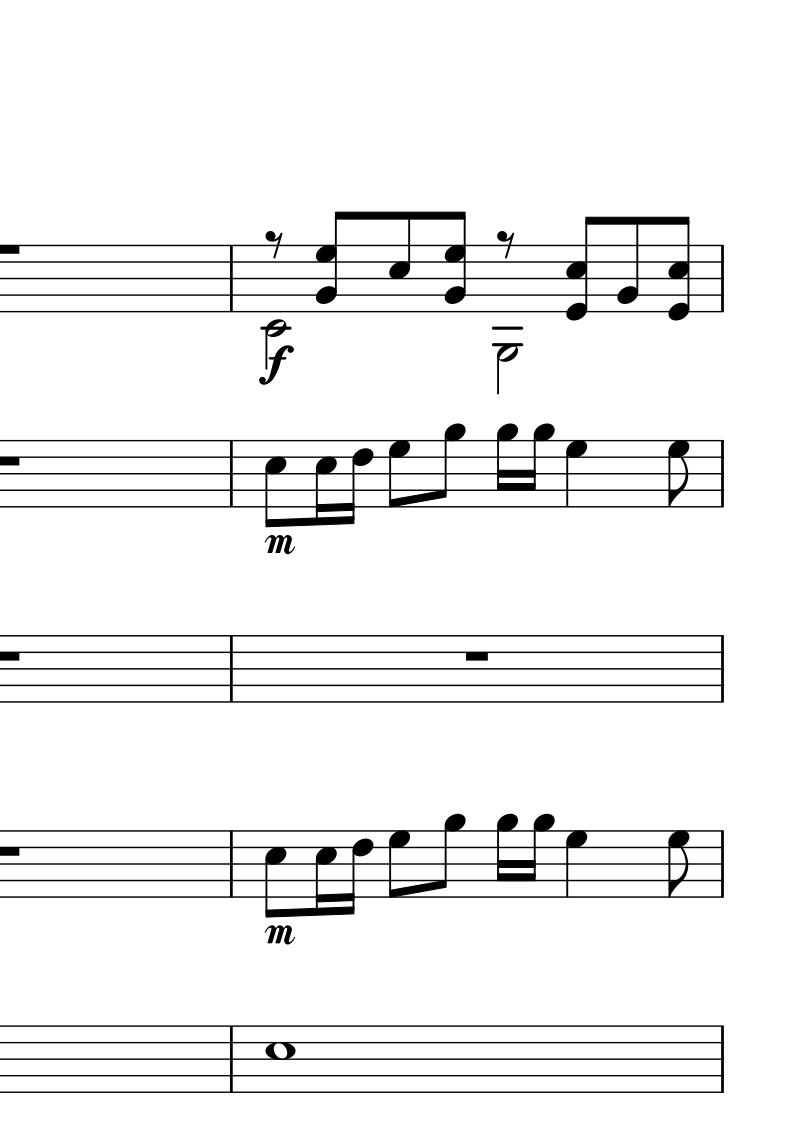16_5: (313, 828, 337, 916), (313, 438, 336, 526)
16_6: (342, 437, 374, 525), (342, 827, 373, 915)
16_9: (526, 812, 556, 900), (526, 422, 555, 509), (494, 813, 520, 900), (494, 422, 519, 509)
1_5: (264, 1023, 296, 1096)
2_-2: (261, 244, 292, 371)
2_-5: (493, 244, 523, 395)
4_7: (562, 439, 588, 509), (562, 829, 588, 899)
8_0_5: (566, 215, 602, 322), (666, 216, 691, 322)
8_2: (615, 214, 642, 314)
8_2_7: (315, 210, 352, 314), (444, 210, 468, 316)
8_5: (387, 209, 415, 315), (262, 438, 287, 529), (262, 828, 287, 918)
8_7: (666, 829, 696, 899), (666, 440, 694, 509), (386, 438, 412, 509), (387, 828, 412, 899)
8_9: (433, 813, 467, 899), (433, 422, 466, 509)
Rests1: (460, 647, 493, 665), (1, 240, 28, 259)
Rests8: (495, 226, 517, 260), (263, 227, 286, 259)
Single_barline: (223, 1025, 243, 1093), (222, 830, 241, 898), (714, 244, 730, 313), (223, 245, 239, 312), (223, 440, 239, 507), (223, 635, 239, 702), (715, 635, 730, 702), (715, 1025, 730, 1092), (715, 830, 730, 896), (715, 440, 729, 506)
f: (258, 344, 294, 385)
m: (261, 532, 298, 558), (262, 922, 297, 948)
